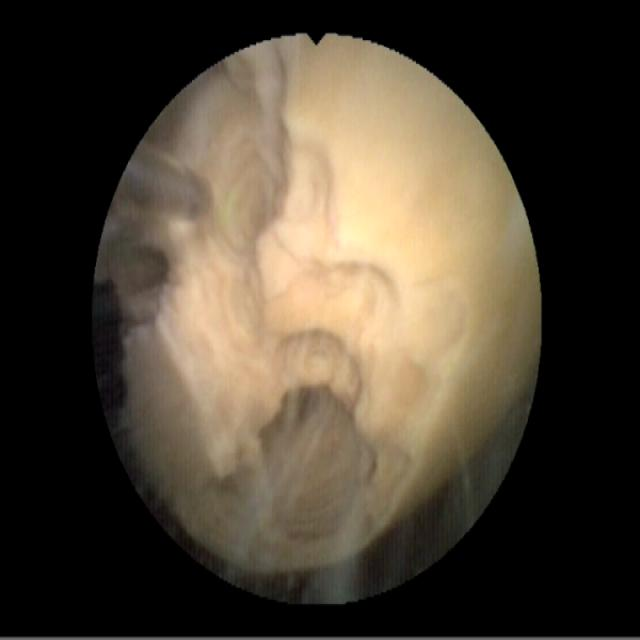stone: (99, 40, 535, 567)
